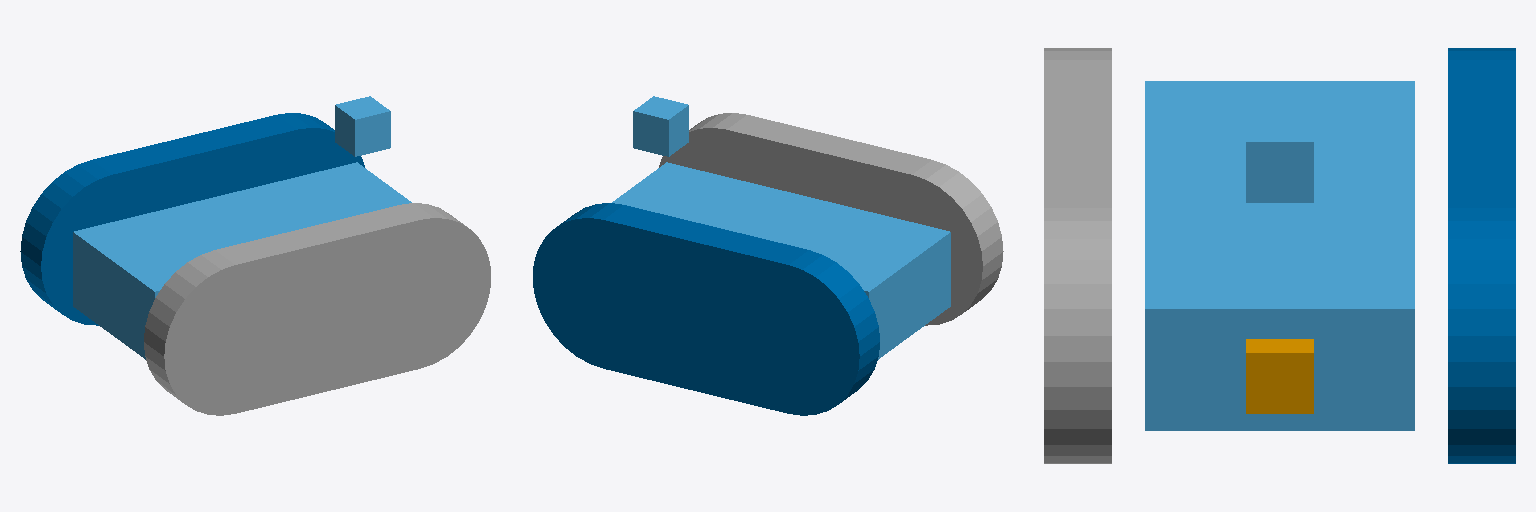
URDF robot description (skidbot):
<?xml version="1.0" ?>
<!-- =================================================================================== -->
<!-- |    This document was autogenerated by xacro from [local-path]/gcamp_ros2_ws/src/gcamp_ros2_basic/gcamp_gazebo/urdf/skidbot.urdf.xacro | -->
<!-- |    EDITING THIS FILE BY HAND IS NOT RECOMMENDED                                 | -->
<!-- =================================================================================== -->
<robot name="skidbot">
  <!--skid_steer_drive_controller-->
  <gazebo>
    <plugin filename="libgazebo_ros_diff_drive.so" name="skid_steer_drive_controller">
      <ros>
        <namespace>/skidbot</namespace>
        <argument>/cmd_vel:=cmd_vel</argument>
        <argument>/odom:=odom</argument>
      </ros>
      <update_rate>100.0</update_rate>
      <num_wheel_pairs>2</num_wheel_pairs>
      <odometry_frame>odom</odometry_frame>
      <left_joint>front_left_wheel_joint</left_joint>
      <left_joint>back_left_wheel_joint</left_joint>
      <wheel_separation>0.4</wheel_separation>
      <wheel_diameter>0.2</wheel_diameter>
      <right_joint>front_right_wheel_joint</right_joint>
      <right_joint>back_right_wheel_joint</right_joint>
      <wheel_separation>0.4</wheel_separation>
      <wheel_diameter>0.2</wheel_diameter>
      <robot_base_frame>robot_footprint</robot_base_frame>
      <max_wheel_torque>15</max_wheel_torque>
      <publish_odom>true</publish_odom>
      <publish_odom_tf>true</publish_odom_tf>
      <publish_wheel_tf>false</publish_wheel_tf>
    </plugin>
  </gazebo>
  <!-- camera -->
  <gazebo reference="camera">
    <sensor name="camera_sensor" type="camera">
      <update_rate>30.0</update_rate>
      <always_on>1</always_on>
      <camera name="camera">
        <horizontal_fov>1.3962634</horizontal_fov>
        <image>
          <width>800</width>
          <height>800</height>
          <format>R8G8B8</format>
        </image>
        <clip>
          <near>0.02</near>
          <far>300</far>
        </clip>
        <distortion>
          <k1>0.0</k1>
          <k2>0.0</k2>
          <k3>0.0</k3>
          <p1>0.0</p1>
          <p2>0.0</p2>
          <center>0.5 0.5</center>
        </distortion>
      </camera>
      <plugin filename="libgazebo_ros_camera.so" name="camera_controller">
        <ros>
          <namespace>/skidbot</namespace>
          <argument>camera/image_raw:=/skidbot/camera/image</argument>
          <argument>camera/camera_info:=/skidbot/camera/image/camera_info</argument>
        </ros>
        <camera_name>camera_sensor</camera_name>
        <frame_name>robot_footprint</frame_name>
        <hack_baseline>0.07</hack_baseline>
      </plugin>
    </sensor>
  </gazebo>
  <!-- hokuyo -->
  <gazebo reference="hokuyo">
    <sensor name="head_hokuyo_sensor" type="ray">
      <pose>0 0 0 0 0 0</pose>
      <visualize>true</visualize>
      <update_rate>40</update_rate>
      <ray>
        <scan>
          <horizontal>
            <samples>720</samples>
            <resolution>1</resolution>
            <min_angle>-3.141592</min_angle>
            <max_angle>3.141592</max_angle>
          </horizontal>
        </scan>
        <range>
          <min>0.10</min>
          <max>10.0</max>
          <resolution>0.01</resolution>
        </range>
        <noise>
          <type>gaussian</type>
          <!-- Noise parameters based on published spec for Hokuyo laser
                achieving "+-30mm" accuracy at range < 10m.  A mean of 0.0m and
                stddev of 0.01m will put 99.7% of samples within 0.03m of the true
                reading. -->
          <mean>0.0</mean>
          <stddev>0.01</stddev>
        </noise>
      </ray>
      <update_rate>30</update_rate>
      <plugin filename="libgazebo_ros_ray_sensor.so" name="gazebo_ros_head_hokuyo_controller">
        <ros>
          <namespace>/skidbot</namespace>
          <argument>~/out:=scan</argument>
        </ros>
        <output_type>sensor_msgs/LaserScan</output_type>
      </plugin>
    </sensor>
  </gazebo>
  <link name="robot_footprint"/>
  <joint name="robot_footprint_joint" type="fixed">
    <origin rpy="0 0 0" xyz="0 0 0"/>
    <parent link="robot_footprint"/>
    <child link="chassis"/>
  </joint>
  <link name="chassis">
    <pose>0 0 0.1 0 0 0</pose>
    <inertial>
      <mass value="15.0"/>
      <origin rpy=" 0 0 0" xyz="0.0 0 0"/>
      <inertia ixx="0.1" ixy="0" ixz="0" iyy="0.1" iyz="0" izz="0.1"/>
    </inertial>
    <collision name="collision">
      <origin rpy=" 0 0 0" xyz="0 0 0"/>
      <geometry>
        <box size=".4 .2 .1"/>
      </geometry>
    </collision>
    <visual name="chassis_visual">
      <origin rpy=" 0 0 0" xyz="0 0 0"/>
      <geometry>
        <box size=".4 .2 .1"/>
      </geometry>
    </visual>
  </link>
  <link name="front_left_wheel">
    <inertial>
      <mass value="8.0"/>
      <origin rpy=" 0 1.5707 1.5707" xyz="0.0 0 0"/>
      <inertia ixx="0.1" ixy="0" ixz="0" iyy="0.1" iyz="0" izz="0.1"/>
    </inertial>
    <collision>
      <origin rpy=" 0 1.5707 1.5707" xyz="0.0 0 0"/>
      <geometry>
        <cylinder length="0.05" radius="0.1"/>
      </geometry>
    </collision>
  </link>
  <link name="back_left_wheel">
    <inertial>
      <mass value="8.0"/>
      <origin rpy=" 0 1.5707 1.5707" xyz="0.0 0 0"/>
      <inertia ixx="0.1" ixy="0" ixz="0" iyy="0.1" iyz="0" izz="0.1"/>
    </inertial>
    <collision>
      <origin rpy=" 0 1.5707 1.5707" xyz="0.0 0 0"/>
      <geometry>
        <cylinder length="0.05" radius="0.1"/>
      </geometry>
    </collision>
  </link>
  <link name="left_track">
    <visual name="left_track_visual">
      <origin rpy="1.5708 0 1.5708" xyz="0 0 0"/>
      <geometry>
        <box size="0.05 0.2 0.26"/>
      </geometry>
    </visual>
    <visual name="left_track_visual_1">
      <origin rpy="1.5708 -0 0" xyz="0.13 0 0"/>
      <geometry>
        <cylinder length="0.05" radius="0.1"/>
      </geometry>
    </visual>
    <visual name="left_track_visual_2">
      <origin rpy="1.5708 -0 0" xyz="-0.13 0 0"/>
      <geometry>
        <cylinder length="0.05" radius="0.1"/>
      </geometry>
    </visual>
  </link>
  <link name="front_right_wheel">
    <inertial>
      <mass value="8.0"/>
      <origin rpy=" 0 1.5707 1.5707" xyz="0.0 0 0"/>
      <inertia ixx="0.1" ixy="0" ixz="0" iyy="0.1" iyz="0" izz="0.1"/>
    </inertial>
    <collision>
      <origin rpy=" 0 1.5707 1.5707" xyz="0.0 0 0"/>
      <geometry>
        <cylinder length="0.05" radius="0.1"/>
      </geometry>
    </collision>
  </link>
  <link name="back_right_wheel">
    <inertial>
      <mass value="8.0"/>
      <origin rpy=" 0 1.5707 1.5707" xyz="0.0 0 0"/>
      <inertia ixx="0.1" ixy="0" ixz="0" iyy="0.1" iyz="0" izz="0.1"/>
    </inertial>
    <collision>
      <origin rpy=" 0 1.5707 1.5707" xyz="0.0 0 0"/>
      <geometry>
        <cylinder length="0.05" radius="0.1"/>
      </geometry>
    </collision>
  </link>
  <link name="right_track">
    <visual name="right_track_visual">
      <origin rpy="1.5708 0 1.5708" xyz="0 0 0"/>
      <geometry>
        <box size="0.05 0.2 0.26"/>
      </geometry>
    </visual>
    <visual name="right_track_visual_1">
      <origin rpy="1.5708 -0 0" xyz="0.13 0 0"/>
      <geometry>
        <cylinder length="0.05" radius="0.1"/>
      </geometry>
    </visual>
    <visual name="right_track_visual_2">
      <origin rpy="1.5708 -0 0" xyz="-0.13 0 0"/>
      <geometry>
        <cylinder length="0.05" radius="0.1"/>
      </geometry>
    </visual>
  </link>
  <link name="camera">
    <inertial>
      <mass value="0.1"/>
      <origin rpy=" 0 0 0" xyz="0.05 0.05 0.05"/>
      <inertia ixx="1e-6" ixy="0" ixz="0" iyy="1e-6" iyz="0" izz="1e-6"/>
    </inertial>
    <visual name="camera_visual">
      <origin rpy="0 0 0" xyz="0 0 0"/>
      <geometry>
        <box size="0.05 0.05 0.05"/>
      </geometry>
    </visual>
    <collision name="camera_colision">
      <origin rpy="0 0 0" xyz="0 0 0"/>
      <geometry>
        <box size="0.05 0.05 0.05"/>
      </geometry>
    </collision>
  </link>
  <link name="hokuyo">
    <inertial>
      <mass value="1e-5"/>
      <origin rpy=" 0 0 0" xyz="0 0 0"/>
      <inertia ixx="1e-6" ixy="0" ixz="0" iyy="1e-6" iyz="0" izz="1e-6"/>
    </inertial>
    <visual name="hokuyo_visual">
      <origin rpy="0 0 0" xyz="0 0 0"/>
      <geometry>
        <box size="0.05 0.05 0.05"/>
      </geometry>
    </visual>
    <collision name="hokuyo_colision">
      <origin rpy="0 0 0" xyz="0 0 0"/>
      <geometry>
        <box size="0.1 0.1 0.1"/>
      </geometry>
    </collision>
  </link>
  <joint name="front_left_wheel_joint" type="continuous">
    <origin rpy="0 0 0" xyz="0.13 0.15 0"/>
    <child link="front_left_wheel"/>
    <parent link="chassis"/>
    <axis rpy="0 0 0" xyz="0 1 0"/>
    <limit effort="10000" velocity="1000"/>
    <dynamics damping="1.0" friction="1.0"/>
  </joint>
  <joint name="front_right_wheel_joint" type="continuous">
    <origin rpy="0 0 0" xyz="0.13 -0.15 0"/>
    <child link="front_right_wheel"/>
    <parent link="chassis"/>
    <axis rpy="0 0 0" xyz="0 1 0"/>
    <limit effort="10000" velocity="1000"/>
    <dynamics damping="1.0" friction="1.0"/>
  </joint>
  <joint name="back_left_wheel_joint" type="continuous">
    <origin rpy="0 0 0" xyz="-0.13 0.15 0"/>
    <child link="back_left_wheel"/>
    <parent link="chassis"/>
    <axis rpy="0 0 0" xyz="0 1 0"/>
    <limit effort="10000" velocity="1000"/>
    <dynamics damping="1.0" friction="1.0"/>
  </joint>
  <joint name="back_right_wheel_joint" type="continuous">
    <origin rpy="0 0 0" xyz="-0.13 -0.15 0"/>
    <child link="back_right_wheel"/>
    <parent link="chassis"/>
    <axis rpy="0 0 0" xyz="0 1 0"/>
    <limit effort="10000" velocity="1000"/>
    <dynamics damping="1.0" friction="1.0"/>
  </joint>
  <joint name="right_track_j" type="fixed">
    <origin rpy="0 0 0" xyz="0 -0.15 0"/>
    <child link="right_track"/>
    <parent link="chassis"/>
  </joint>
  <joint name="left_track_j" type="fixed">
    <origin rpy="0 0 0" xyz="0 0.15 0"/>
    <child link="left_track"/>
    <parent link="chassis"/>
  </joint>
  <joint name="camera_joint" type="fixed">
    <origin rpy="0 0 0" xyz="0.2 0 0"/>
    <child link="camera"/>
    <parent link="chassis"/>
    <axis rpy="0 0 0" xyz="0 1 0"/>
  </joint>
  <joint name="hokuyo_joint" type="fixed">
    <origin rpy="0 0 0" xyz="0.15 0 0.15"/>
    <child link="hokuyo"/>
    <parent link="chassis"/>
    <axis rpy="0 0 0" xyz="0 1 0"/>
  </joint>
  <gazebo reference="chassis">
    <material>Gazebo/Green</material>
  </gazebo>
  <gazebo reference="left_track">
    <material>Gazebo/Black</material>
  </gazebo>
  <gazebo reference="right_track">
    <material>Gazebo/Black</material>
  </gazebo>
  <gazebo reference="camera">
    <material>Gazebo/Gray</material>
  </gazebo>
  <gazebo reference="hokuyo">
    <material>Gazebo/Black</material>
  </gazebo>
</robot>

--- Render facts (derived) ---
The picture shows the robot from 3 angles, left to right: view 1: azimuth 30°, elevation 25°; view 2: azimuth 150°, elevation 25°; view 3: azimuth 270°, elevation 25°; orthographic projection.
Model skidbot with 10 links and 9 joints (4 continuous, 5 fixed), rooted at robot_footprint, posed all joints at 0.
Visible links, largest first — view 1: right_track, left_track, chassis, hokuyo; view 2: left_track, right_track, chassis, hokuyo; view 3: chassis, left_track, right_track, hokuyo, camera.
Boxes of the visible links, x1,y1,x2,y2 form: right_track: (144, 203, 490, 415); left_track: (20, 113, 364, 325); chassis: (73, 162, 411, 359); hokuyo: (335, 96, 390, 156); left_track: (533, 203, 879, 415); right_track: (659, 113, 1003, 325); chassis: (612, 162, 950, 359); hokuyo: (633, 96, 688, 156); chassis: (1145, 81, 1414, 430); left_track: (1448, 48, 1515, 463); right_track: (1044, 48, 1111, 463); hokuyo: (1246, 114, 1313, 202); camera: (1246, 339, 1313, 413).
Bounding box of the posed robot: 0.46 × 0.35 × 0.275 m (x, y, z).
Geometry: primitives only (box / cylinder / sphere), no mesh files.
